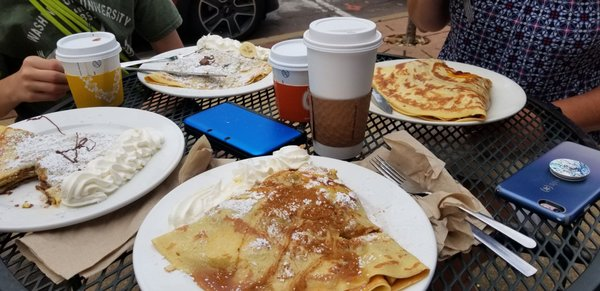pizza: (302, 15, 383, 161), (55, 31, 124, 109), (269, 39, 310, 126)
